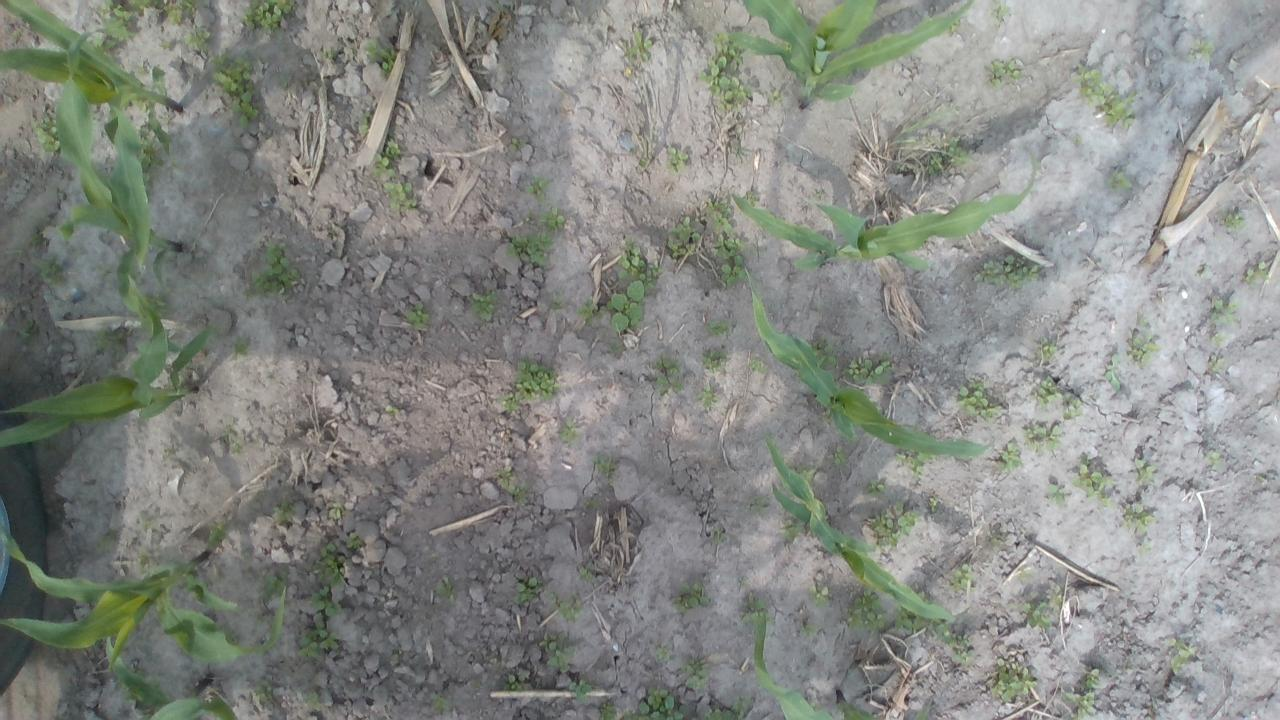Maize: (745, 269, 993, 460), (0, 518, 290, 676), (52, 23, 184, 340), (0, 276, 216, 453), (732, 150, 1038, 272), (760, 435, 954, 624), (0, 0, 183, 165), (728, 0, 973, 107), (748, 610, 929, 720), (103, 633, 240, 720)
Weeds: (1071, 62, 1138, 132), (696, 30, 754, 110), (241, 238, 303, 302), (210, 52, 260, 130), (971, 253, 1043, 290), (616, 237, 663, 292), (870, 502, 919, 554), (954, 374, 1002, 422), (1071, 454, 1113, 508), (622, 684, 684, 720), (988, 656, 1036, 702), (134, 124, 162, 202), (606, 280, 646, 334), (514, 357, 561, 401), (239, 0, 299, 34), (844, 586, 889, 630), (933, 620, 975, 666), (294, 615, 338, 658), (840, 353, 896, 386), (714, 231, 747, 285), (536, 632, 577, 673), (506, 232, 554, 266), (668, 215, 702, 260), (670, 581, 716, 614), (1126, 328, 1162, 370), (312, 542, 346, 586), (98, 0, 162, 23), (1022, 422, 1064, 454), (982, 57, 1022, 90), (30, 114, 63, 154), (895, 446, 936, 478), (700, 694, 750, 720), (654, 354, 684, 397), (31, 253, 66, 288), (366, 38, 396, 78), (740, 592, 775, 626), (1060, 689, 1098, 720), (1122, 502, 1156, 536), (382, 179, 418, 211), (372, 139, 402, 176), (704, 195, 732, 232), (256, 569, 289, 600), (93, 326, 127, 356), (308, 585, 339, 617), (808, 338, 837, 372), (549, 590, 580, 621), (1131, 456, 1162, 487), (622, 28, 654, 58), (513, 576, 545, 606), (1018, 598, 1048, 630), (469, 290, 498, 322), (1208, 297, 1238, 326), (402, 300, 430, 331), (894, 605, 926, 632), (183, 23, 212, 52), (1034, 374, 1058, 409), (1169, 636, 1191, 674), (534, 206, 566, 232), (1102, 350, 1122, 391), (781, 512, 808, 542), (996, 439, 1022, 470), (684, 656, 706, 690), (946, 136, 970, 166), (952, 561, 976, 591), (1244, 259, 1270, 286), (526, 174, 551, 202), (576, 295, 597, 328), (808, 583, 834, 609), (694, 382, 718, 410), (168, 0, 196, 24), (1106, 167, 1134, 191), (666, 146, 691, 172), (1185, 38, 1213, 61), (146, 290, 169, 318), (269, 500, 293, 526), (701, 350, 727, 373), (223, 422, 241, 455), (1044, 480, 1066, 507), (1038, 336, 1060, 362), (568, 678, 592, 700), (796, 462, 820, 484), (230, 335, 252, 359), (502, 673, 528, 693), (1062, 397, 1084, 420), (496, 392, 520, 413), (1222, 210, 1246, 231), (93, 35, 118, 55), (749, 494, 772, 515), (252, 682, 272, 706), (706, 318, 732, 336), (989, 0, 1010, 22), (301, 690, 322, 712), (592, 450, 612, 473), (430, 692, 450, 714), (436, 580, 458, 600), (558, 420, 578, 441), (926, 155, 946, 175), (344, 531, 363, 552), (832, 444, 848, 466), (512, 485, 530, 504), (327, 502, 346, 520), (942, 17, 962, 34), (208, 522, 225, 542), (1084, 666, 1101, 686), (866, 479, 886, 496), (750, 357, 769, 374), (1205, 448, 1222, 467), (136, 552, 149, 576), (496, 469, 513, 487), (1206, 356, 1224, 373), (798, 623, 818, 638), (712, 528, 728, 546), (321, 46, 339, 62), (578, 566, 596, 581), (358, 112, 370, 134), (653, 646, 669, 662), (1137, 539, 1152, 556), (132, 96, 150, 110), (1052, 584, 1064, 605), (768, 89, 784, 103), (744, 190, 757, 207), (20, 318, 32, 336), (608, 340, 624, 353), (98, 532, 112, 546), (160, 37, 174, 51), (1017, 569, 1035, 579), (551, 293, 562, 309), (511, 136, 525, 148), (132, 62, 145, 74), (929, 496, 940, 509), (382, 403, 397, 412), (1071, 136, 1082, 145), (32, 232, 41, 241), (894, 164, 906, 170)
